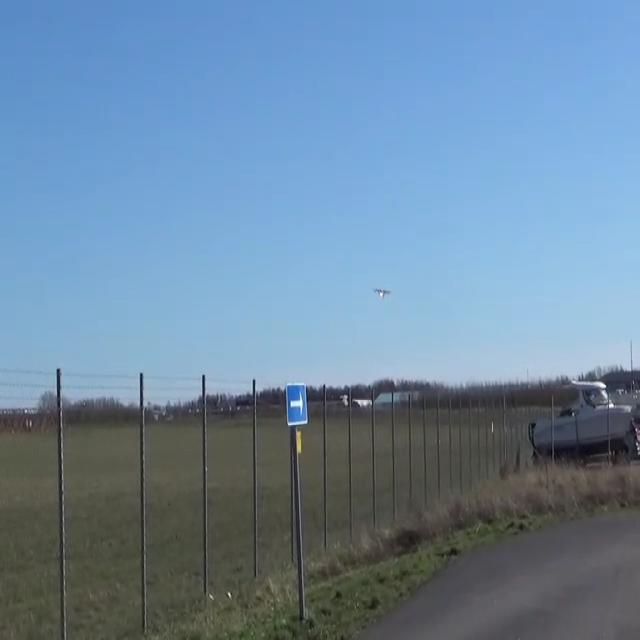AirPlane: (366, 279, 397, 306)
